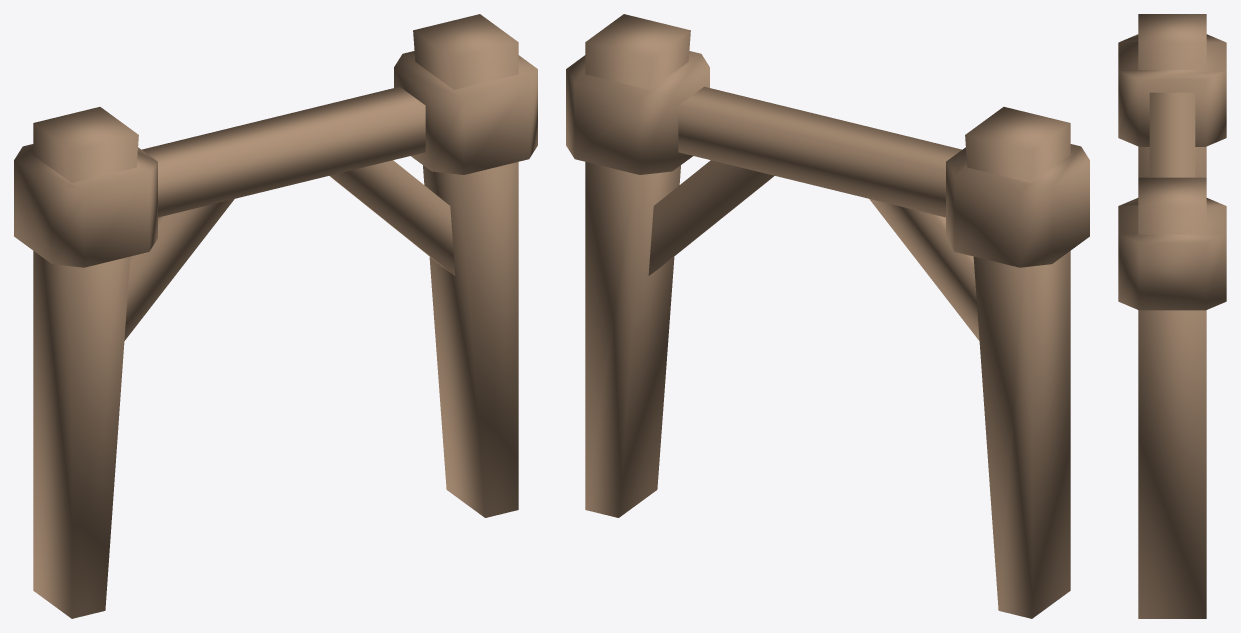
File: kenney_mini-dungeon__wood-support.fbx
3 views of the same model, side by side, from view 1: azimuth 30°, elevation 25°; view 2: azimuth 150°, elevation 25°; view 3: azimuth 270°, elevation 25° (orthographic). The views are drawn at different scales.
Visible parts, largest first — view 1: kenney_mini-dungeon__wood-support__cave_wood; view 2: kenney_mini-dungeon__wood-support__cave_wood; view 3: kenney_mini-dungeon__wood-support__cave_wood.
Part boxes in pixels (left/top/right/bottom): kenney_mini-dungeon__wood-support__cave_wood: left=14, top=14, right=537, bottom=618; kenney_mini-dungeon__wood-support__cave_wood: left=566, top=14, right=1089, bottom=618; kenney_mini-dungeon__wood-support__cave_wood: left=1118, top=14, right=1226, bottom=618.
Bounding box in the file's own units: 3.89 × 3.57 × 0.8502.
